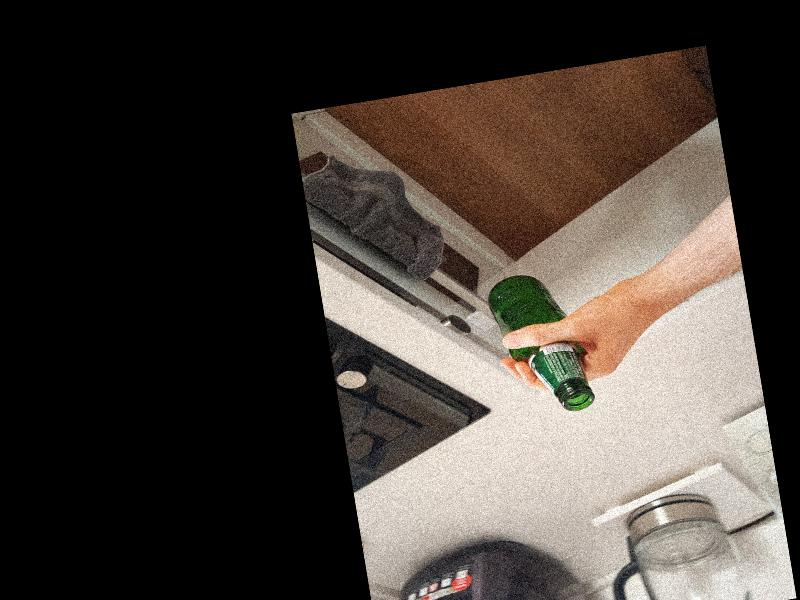Beer: (484, 264, 596, 421)
